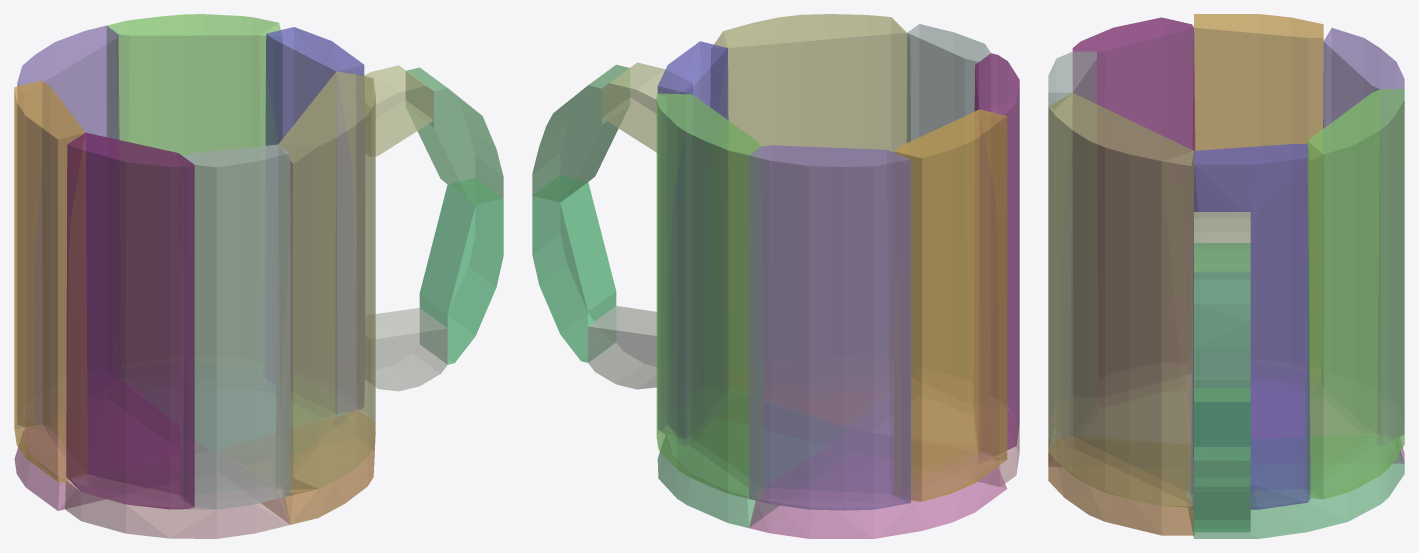
File: mug_compound.dae
3 renders of one model, left to right at view 1: azimuth 30°, elevation 25°; view 2: azimuth 150°, elevation 25°; view 3: azimuth 270°, elevation 25°, orthographic.
Parts seen in each view (by area): view 1: Shape_IndexedFaceSet_014, Shape_IndexedFaceSet_009, Shape_IndexedFaceSet_010, Shape_IndexedFaceSet_006, Shape_IndexedFaceSet_013, Shape_IndexedFaceSet_012, Shape_IndexedFaceSet_011, Shape_IndexedFaceSet_001, Shape_IndexedFaceSet_004, Shape_IndexedFaceSet_007, Shape_IndexedFaceSet_003, Shape_IndexedFaceSet_005 (+3 smaller); view 2: Shape_IndexedFaceSet_012, Shape_IndexedFaceSet_006, Shape_IndexedFaceSet_011, Shape_IndexedFaceSet_014, Shape_IndexedFaceSet_010, Shape_IndexedFaceSet_013, Shape_IndexedFaceSet_009, Shape_IndexedFaceSet_007, Shape_IndexedFaceSet_001, Shape_IndexedFaceSet_008, Shape_IndexedFaceSet_003, Shape_IndexedFaceSet (+3 smaller); view 3: Shape_IndexedFaceSet_006, Shape_IndexedFaceSet_014, Shape_IndexedFaceSet_013, Shape_IndexedFaceSet_011, Shape_IndexedFaceSet_009, Shape_IndexedFaceSet_012, Shape_IndexedFaceSet_008, Shape_IndexedFaceSet_010, Shape_IndexedFaceSet_005, Shape_IndexedFaceSet_003, Shape_IndexedFaceSet_001, Shape_IndexedFaceSet (+3 smaller).
Boxes of the visible parts, left/top/right/bottom form: Shape_IndexedFaceSet_014: left=107, top=14, right=281, bottom=368; Shape_IndexedFaceSet_009: left=66, top=132, right=194, bottom=509; Shape_IndexedFaceSet_010: left=180, top=144, right=290, bottom=509; Shape_IndexedFaceSet_006: left=276, top=71, right=375, bottom=495; Shape_IndexedFaceSet_013: left=265, top=27, right=364, bottom=413; Shape_IndexedFaceSet_012: left=17, top=25, right=119, bottom=426; Shape_IndexedFaceSet_011: left=14, top=80, right=87, bottom=483; Shape_IndexedFaceSet_001: left=419, top=178, right=503, bottom=364; Shape_IndexedFaceSet_004: left=65, top=472, right=290, bottom=538; Shape_IndexedFaceSet_007: left=14, top=398, right=179, bottom=510; Shape_IndexedFaceSet_003: left=406, top=67, right=503, bottom=204; Shape_IndexedFaceSet_005: left=246, top=410, right=375, bottom=524; Shape_IndexedFaceSet_012: left=749, top=145, right=910, bottom=510; Shape_IndexedFaceSet_006: left=711, top=14, right=910, bottom=372; Shape_IndexedFaceSet_011: left=894, top=109, right=1007, bottom=501; Shape_IndexedFaceSet_014: left=656, top=93, right=763, bottom=500; Shape_IndexedFaceSet_010: left=906, top=24, right=990, bottom=382; Shape_IndexedFaceSet_013: left=657, top=41, right=728, bottom=438; Shape_IndexedFaceSet_009: left=974, top=53, right=1019, bottom=456; Shape_IndexedFaceSet_007: left=749, top=447, right=1007, bottom=538; Shape_IndexedFaceSet_001: left=532, top=176, right=616, bottom=362; Shape_IndexedFaceSet_008: left=657, top=406, right=846, bottom=527; Shape_IndexedFaceSet_003: left=532, top=64, right=629, bottom=202; Shape_IndexedFaceSet: left=588, top=306, right=656, bottom=389; Shape_IndexedFaceSet_006: left=1048, top=92, right=1194, bottom=506; Shape_IndexedFaceSet_014: left=1305, top=89, right=1404, bottom=499; Shape_IndexedFaceSet_013: left=1191, top=144, right=1310, bottom=509; Shape_IndexedFaceSet_011: left=1193, top=14, right=1323, bottom=374; Shape_IndexedFaceSet_009: left=1072, top=17, right=1194, bottom=379; Shape_IndexedFaceSet_012: left=1322, top=28, right=1404, bottom=443; Shape_IndexedFaceSet_008: left=1186, top=434, right=1404, bottom=538; Shape_IndexedFaceSet_010: left=1048, top=51, right=1096, bottom=440; Shape_IndexedFaceSet_005: left=1048, top=437, right=1193, bottom=535; Shape_IndexedFaceSet_003: left=1194, top=243, right=1250, bottom=401; Shape_IndexedFaceSet_001: left=1194, top=389, right=1250, bottom=531; Shape_IndexedFaceSet: left=1194, top=447, right=1250, bottom=532.
Size of the model in its own units: 0.1238 by 0.0851 by 0.0986.
